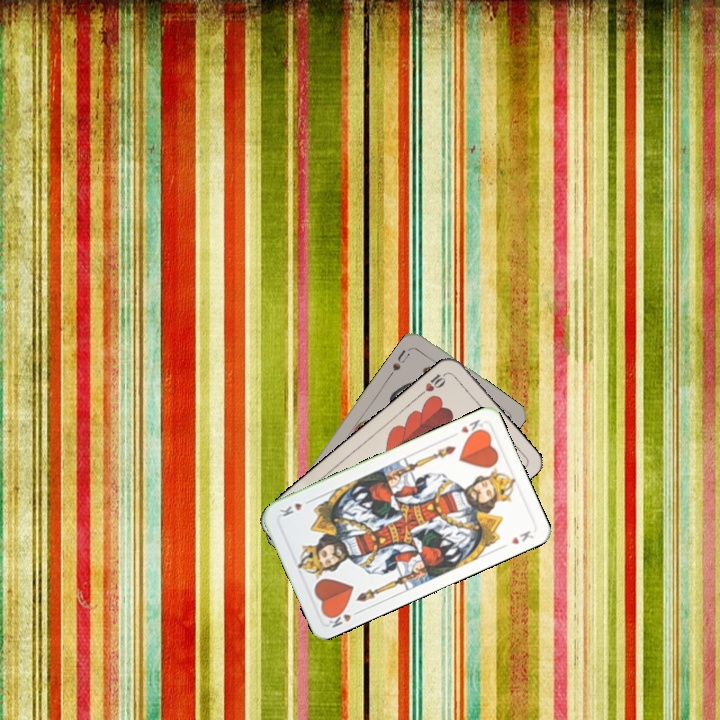H10: (416, 368, 450, 398)
HK: (323, 605, 364, 630), (457, 415, 485, 436)
SU: (386, 345, 412, 378)
